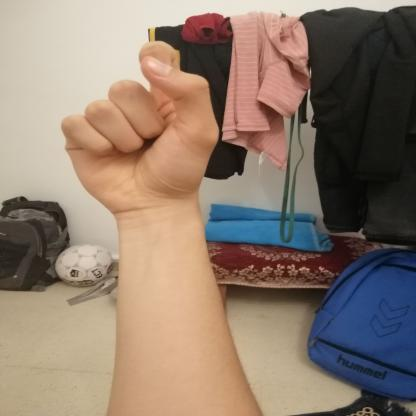FAA: (41, 29, 234, 221)
